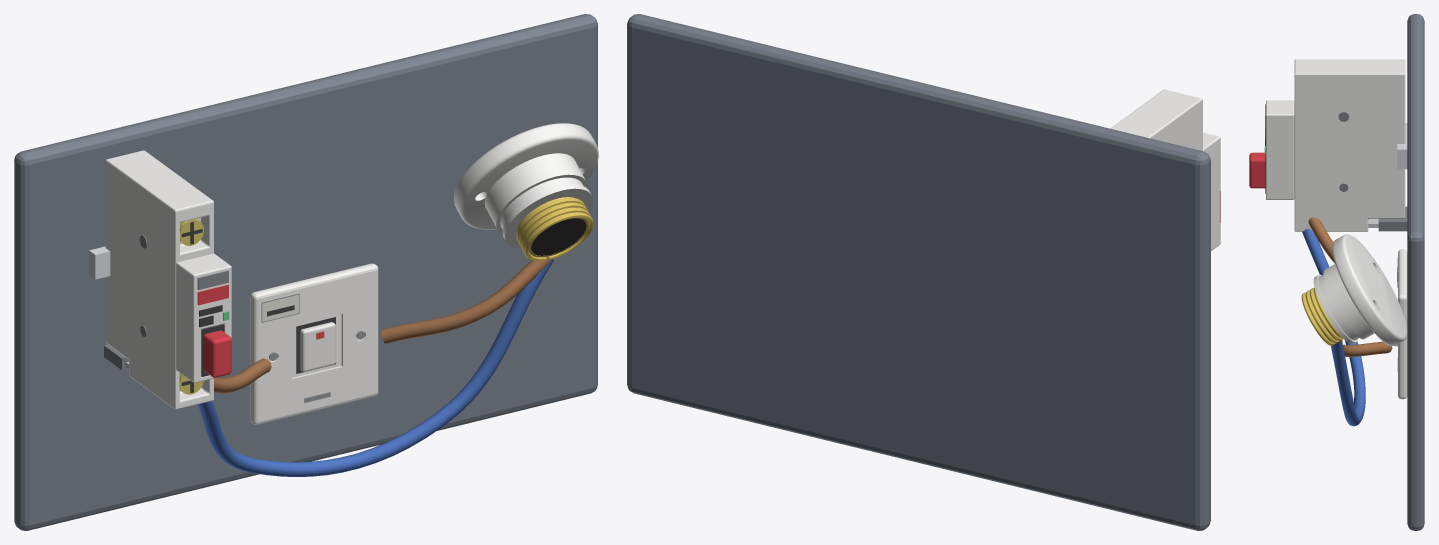
The model's file is LitarLevel5.glb.
3 views of the same model, side by side, from view 1: azimuth 30°, elevation 25°; view 2: azimuth 150°, elevation 25°; view 3: azimuth 270°, elevation 25° (orthographic). The views are drawn at different scales.
Parts seen in each view (by area): view 1: Papan, MCB, Suis, PemegangLampu, Wayar; view 2: Papan, MCB; view 3: MCB, Papan, PemegangLampu, Wayar, Suis, RelDIN.
Boxes of the visible parts, x1,y1,x2,y2 form: Papan: (14, 14, 597, 530); MCB: (104, 150, 231, 409); Suis: (250, 263, 378, 424); PemegangLampu: (454, 123, 598, 261); Wayar: (197, 256, 553, 476); Papan: (627, 14, 1210, 530); MCB: (1110, 89, 1220, 250); MCB: (1249, 59, 1407, 231); Papan: (1407, 14, 1424, 530); PemegangLampu: (1301, 234, 1407, 345); Wayar: (1302, 217, 1392, 426); Suis: (1394, 249, 1407, 399); RelDIN: (1397, 123, 1407, 169).
Size of the model in its own units: 0.37 by 0.23 by 0.1225.
